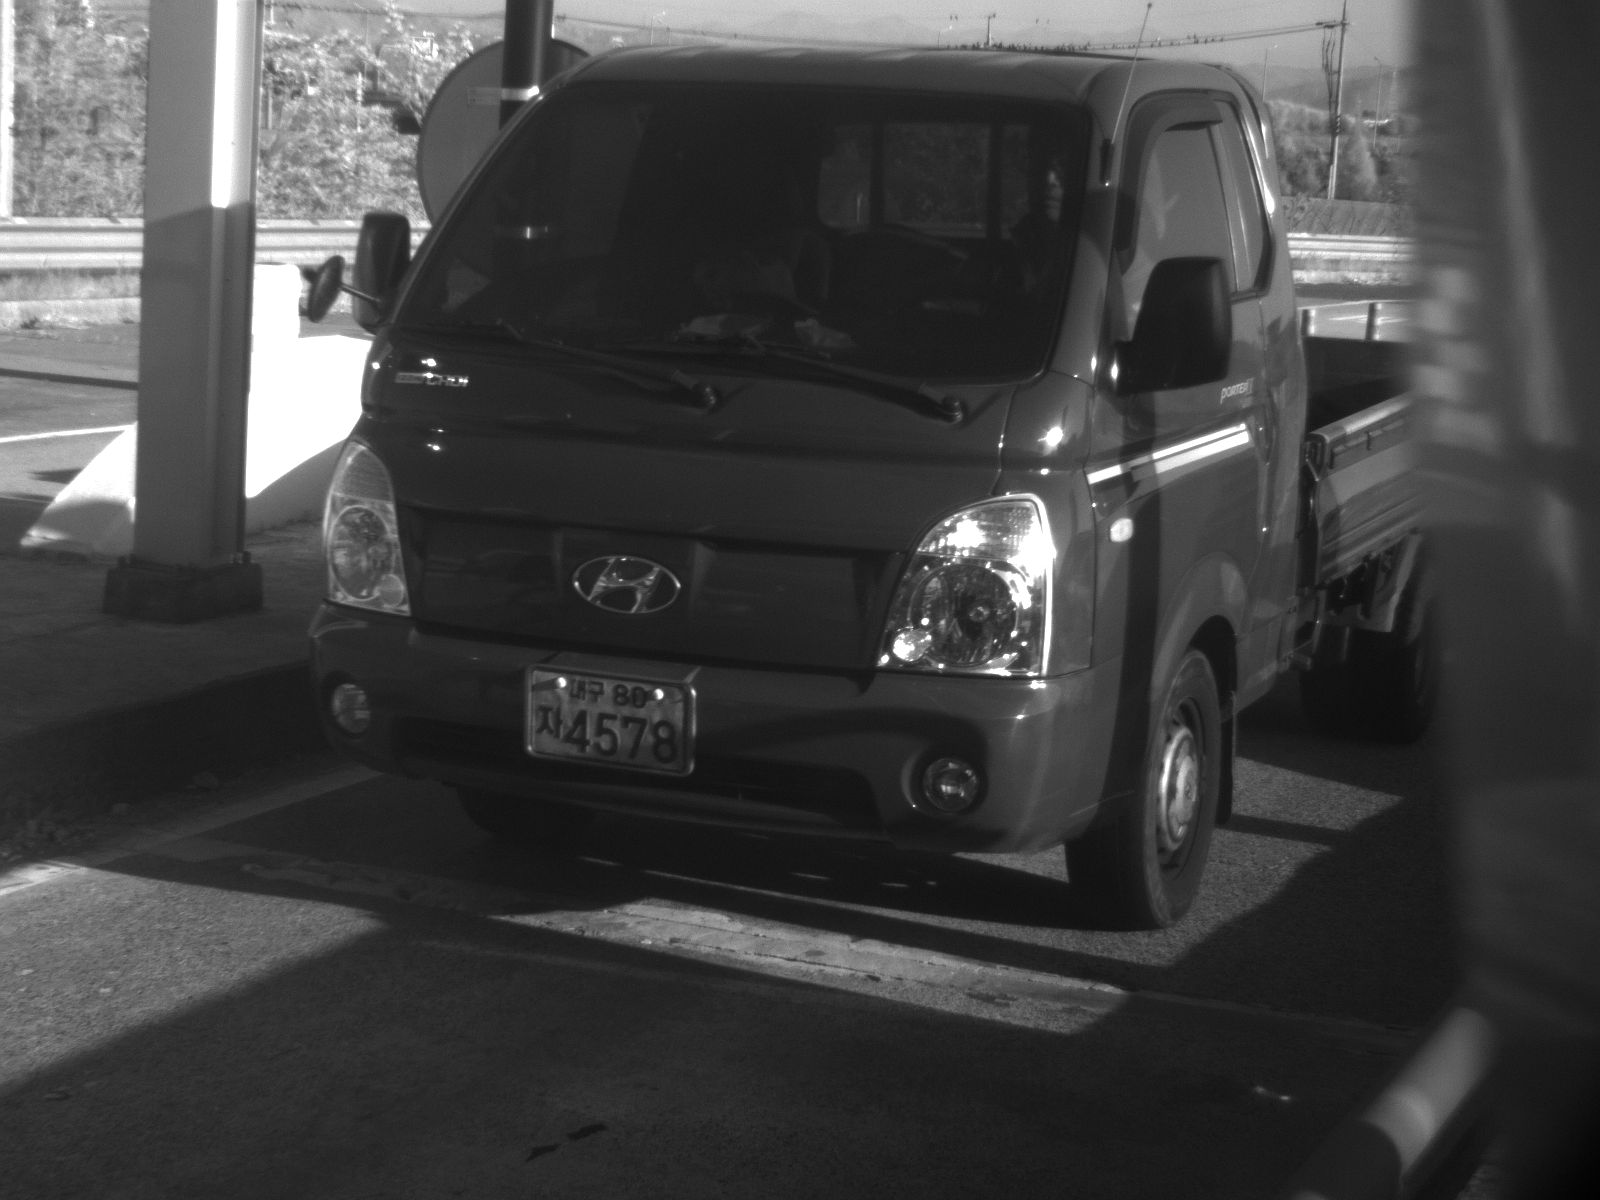car: (297, 42, 1434, 927)
plate: (517, 662, 702, 777)
